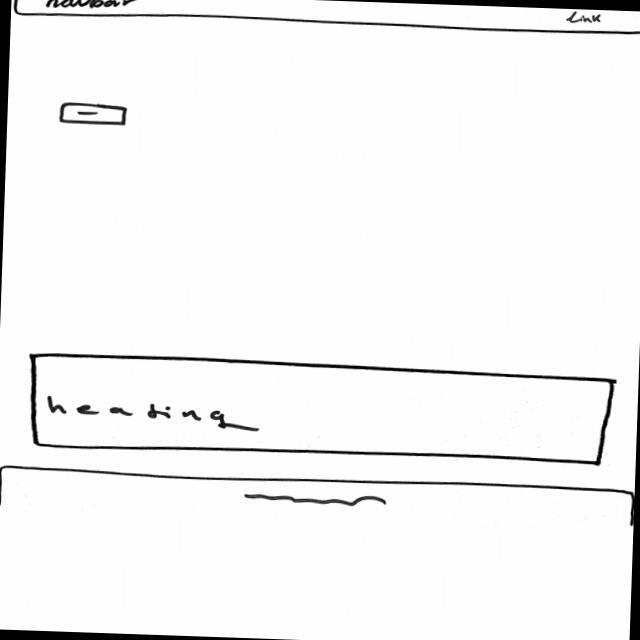container: (25, 351, 614, 469), (11, 1, 640, 39)
icon-button: (57, 102, 131, 129)
label: (45, 395, 262, 435), (42, 1, 140, 11), (566, 12, 604, 25)
text: (241, 491, 387, 511)
